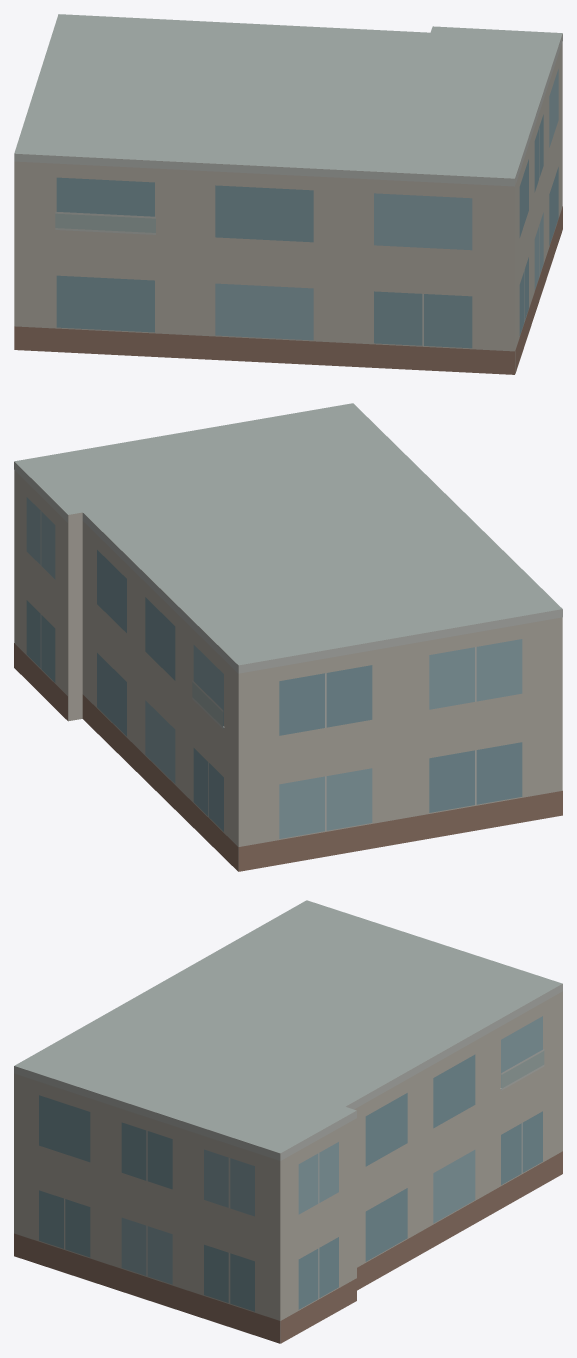
File: survey-upis-32944700.glb
3 views of the same model, one above another, from view 1: azimuth 30°, elevation 25°; view 2: azimuth 150°, elevation 25°; view 3: azimuth 270°, elevation 25° (orthographic). The views are drawn at different scales.
Visible parts, largest first — view 1: survey-upis-32944700.tmp; view 2: survey-upis-32944700.tmp; view 3: survey-upis-32944700.tmp.
Boxes of the visible parts, x1,y1,x2,y2 form: survey-upis-32944700.tmp: (14,14,562,374); survey-upis-32944700.tmp: (14,403,562,871); survey-upis-32944700.tmp: (14,900,562,1343).
Bounding box in the file's own units: 17.42 × 6.1 × 15.95.
